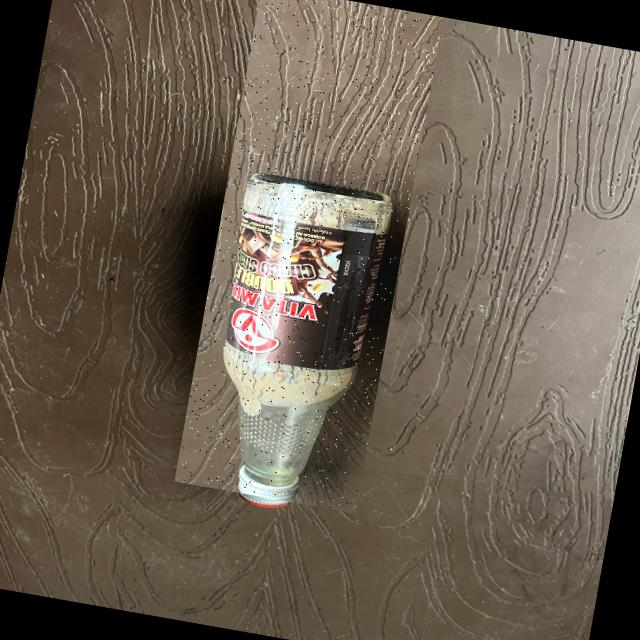REJECT: (173, 0, 442, 513)
